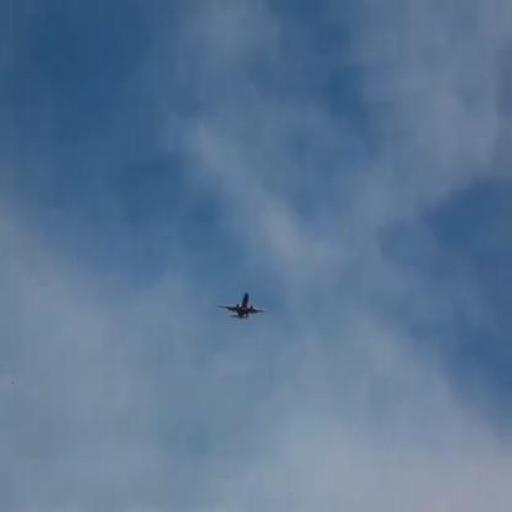aircraft: (217, 292, 266, 318)
